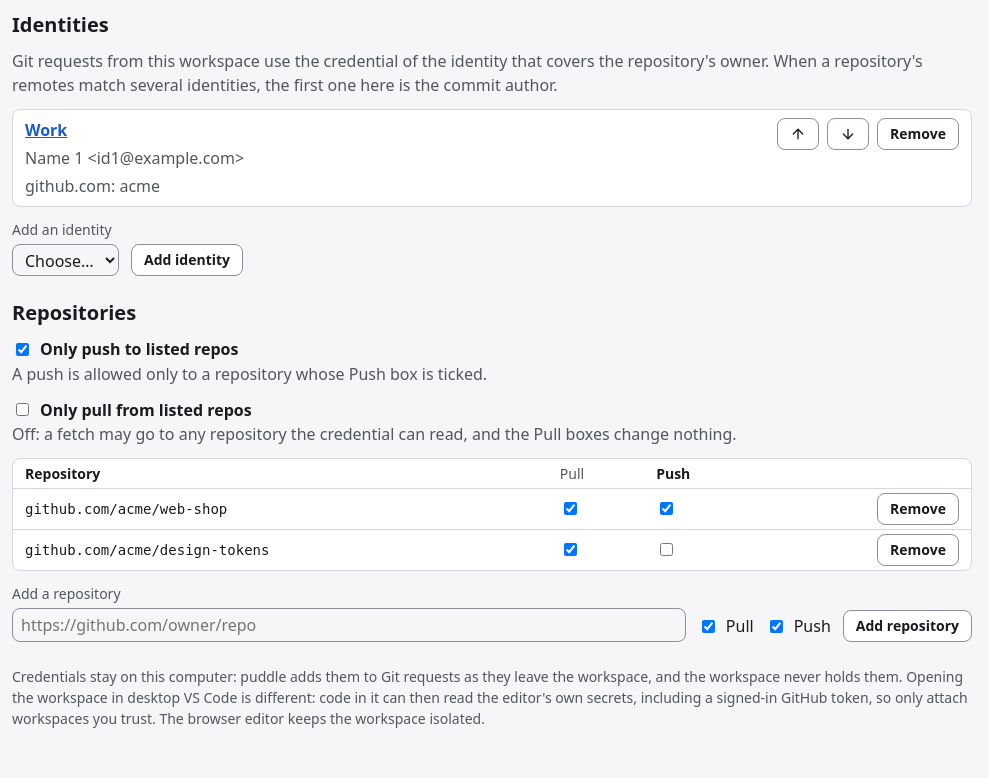
the repository table › flips each switch, and keeps it where it was when refused
The image size is (989, 778).
Expected: the heading "Identities" is shown, [12,11,109,38]
Expected: the table is shown, [13,459,971,570]
Click the switch labelled "Only pull from listed repos": (22,410) [16,403,29,416]
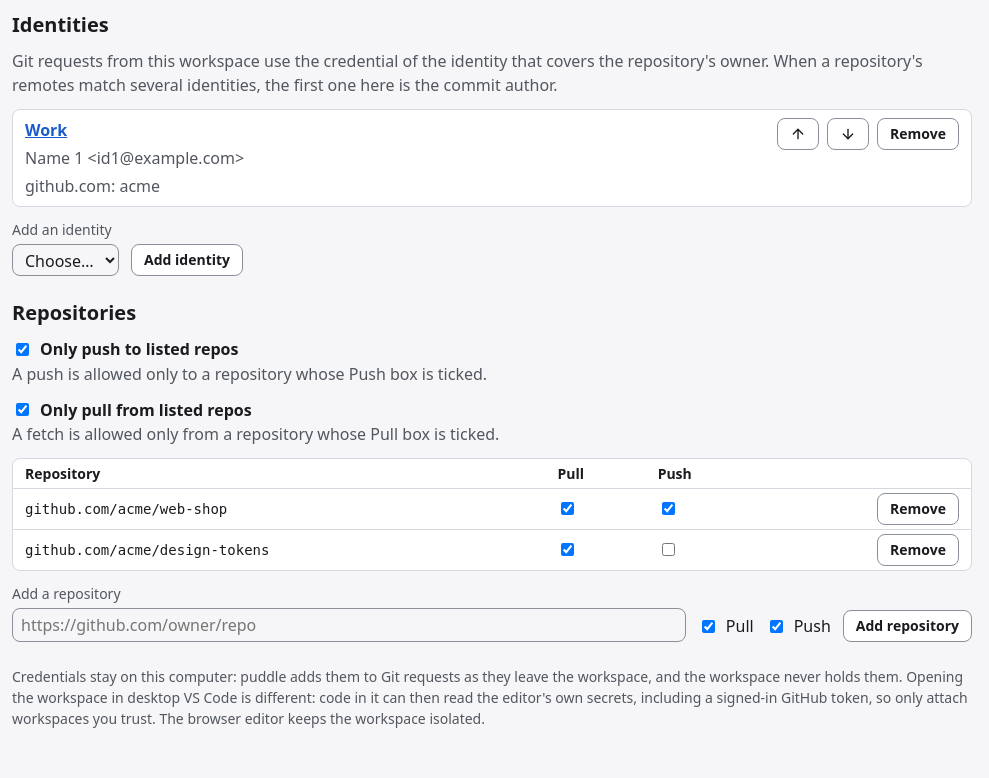
Result: the text "A fetch is allowed only from a repository whose Pull box is ticked" is shown at [12,423,499,445]
Click the switch labelled "Only push to listed repos": (22,349) [16,342,29,356]
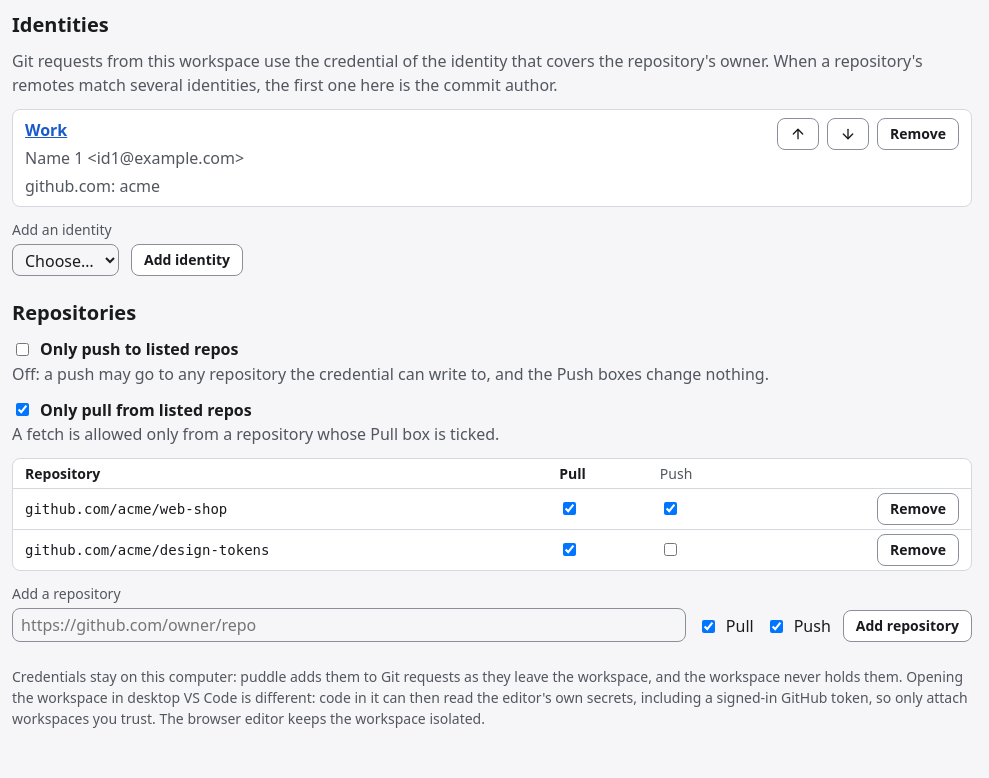
Result: the text "Off: a push may go to any repository" is shown at [12,362,769,384]
Click the switch labelled "Only pull from listed repos": (22,410) [16,403,29,416]
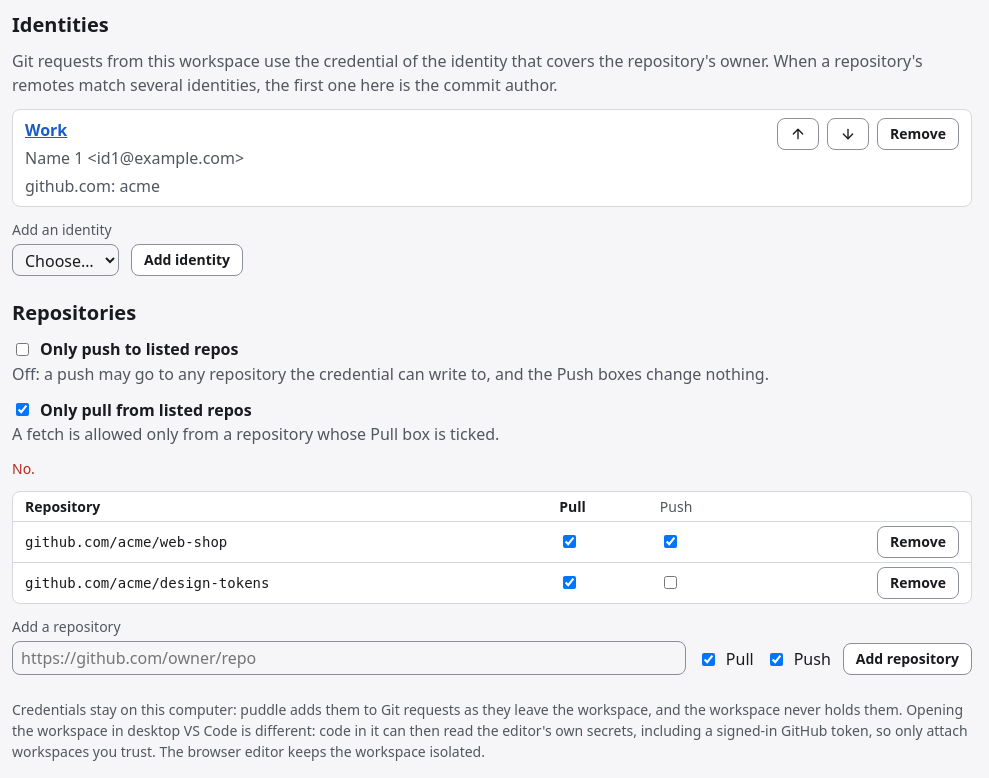
Result: the switch labelled "Only pull from listed repos" is checked at [16,403,29,416]
Result: the message reads "No." at [12,459,35,478]
